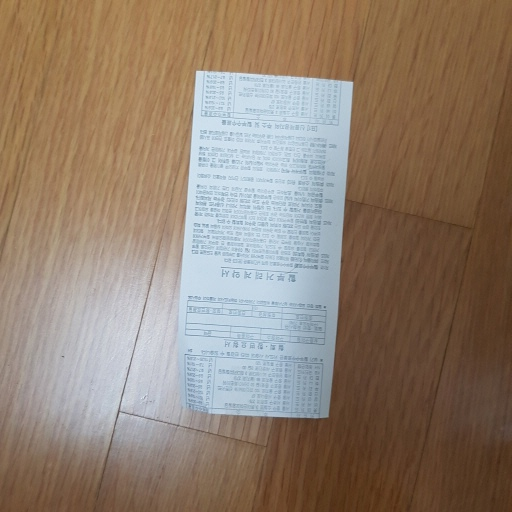Paper_2: (172, 61, 357, 443)
